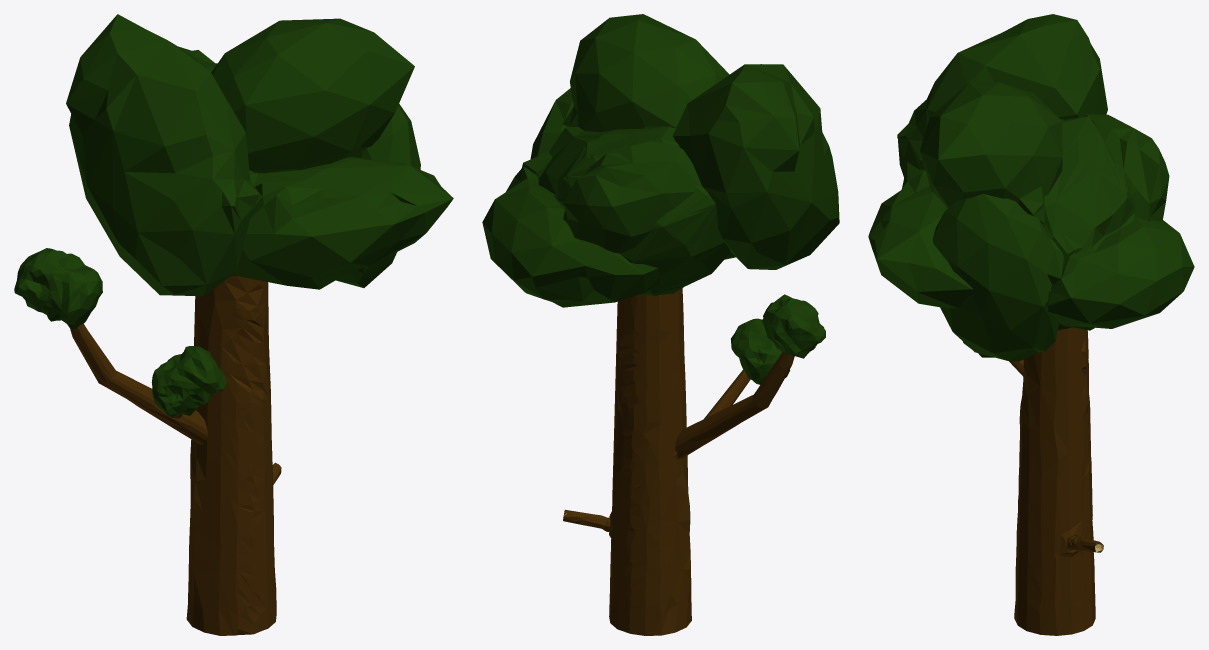
Rendered from tree_3.glb.
3 views of the same model, side by side, from view 1: azimuth 30°, elevation 25°; view 2: azimuth 150°, elevation 25°; view 3: azimuth 270°, elevation 25° (orthographic). The views are drawn at different scales.
Visible parts, largest first — view 1: Icosphere.004; view 2: Icosphere.004; view 3: Icosphere.004.
Part boxes in pixels (bbox=[...]): Icosphere.004: bbox=[14, 14, 453, 635]; Icosphere.004: bbox=[482, 14, 839, 635]; Icosphere.004: bbox=[868, 14, 1194, 635].
Size of the model in its own units: 4.66 by 7.78 by 4.15.
